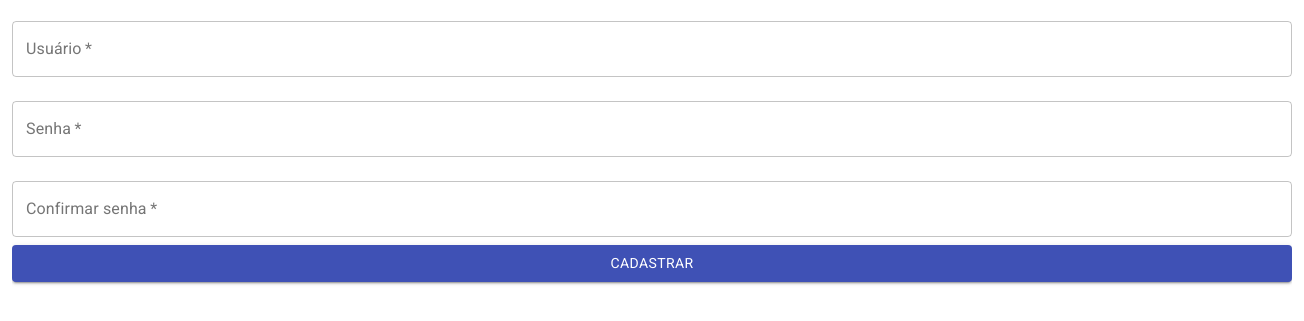
Test: Testes de LoginFormComponent › Testes com o modo cadastrar › Deve desabilitar botão de Cadastrar quando › Senhas forem diferentes
The width and height of the screenshot is (1304, 321).
Type "alejandro" into the field with test id "usuario".
click(652, 49); type("alejandro")  # box x1=12 y1=21 x2=1292 y2=77
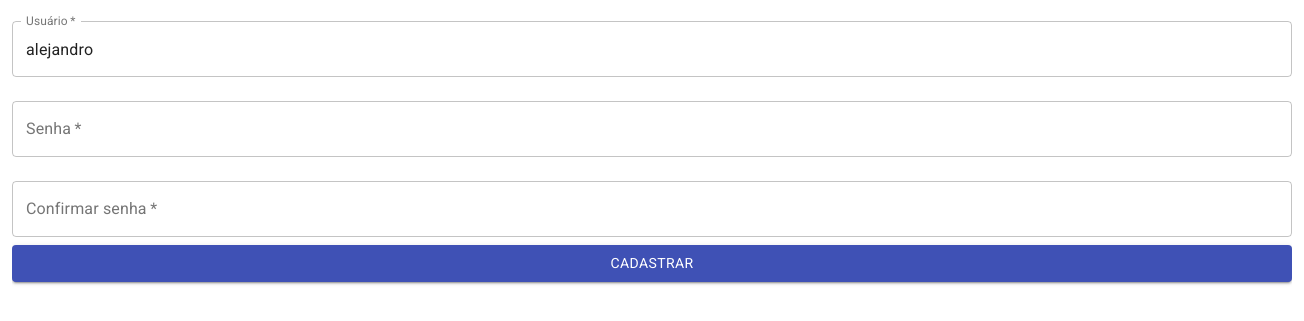
Type "thefamemonster" into the password field with test id "senha".
click(652, 129); type("thefamemonster")  # box x1=12 y1=101 x2=1292 y2=157
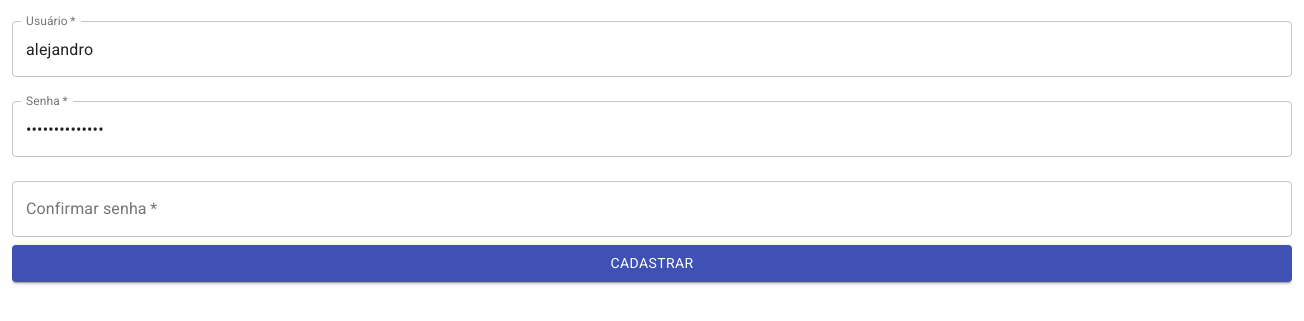
Type "thefame" into the password field with test id "confirmarSenha".
click(652, 209); type("thefame")  # box x1=12 y1=181 x2=1292 y2=237
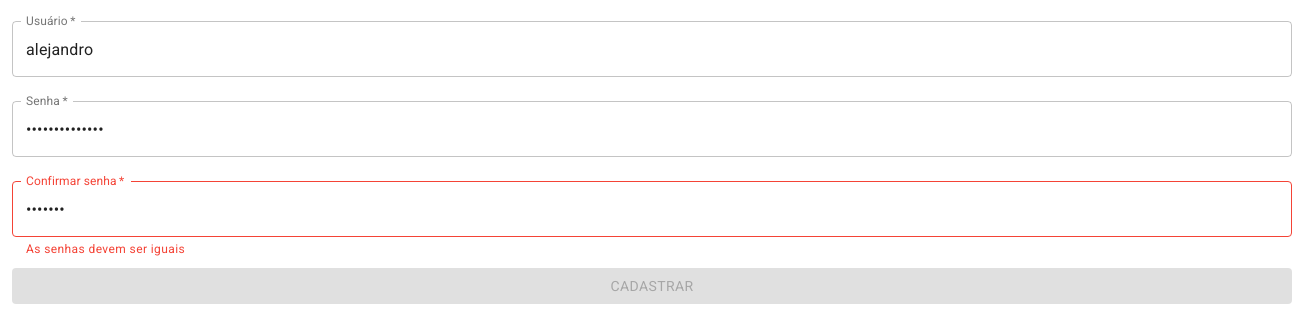
Expected: the button "Cadastrar" is disabled, x1=12 y1=268 x2=1292 y2=304
